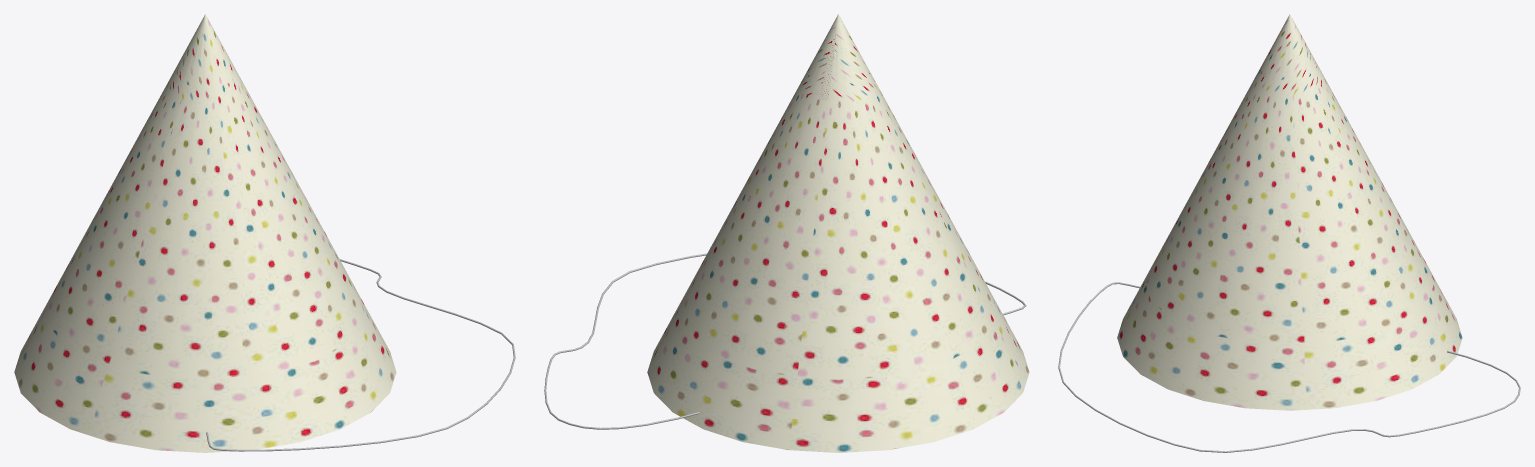
File: Partyhat.FBX
3 views of the same model, side by side, from view 1: azimuth 30°, elevation 25°; view 2: azimuth 150°, elevation 25°; view 3: azimuth 270°, elevation 25° (orthographic). The views are drawn at different scales.
Parts seen in each view (by area): view 1: Loft001; view 2: Loft001; view 3: Loft001.
Boxes of the visible parts, x1=… form: Loft001: x1=14, y1=14, x2=515, y2=452; Loft001: x1=544, y1=14, x2=1029, y2=452; Loft001: x1=1058, y1=14, x2=1520, y2=452.
Size of the model in its own units: 55.94 by 44.82 by 58.02.
Materials: 2 (1 with a texture image).
